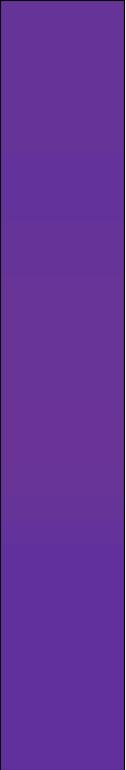safe: (11, 9, 110, 760)
